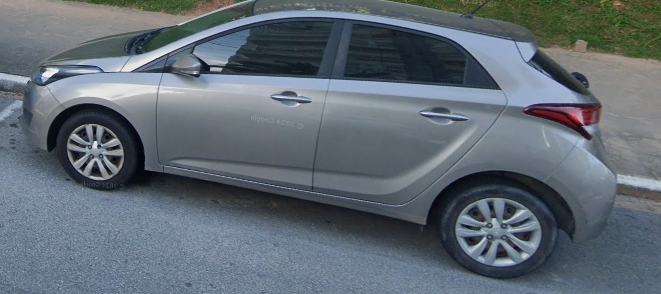car: (25, 1, 616, 279)
